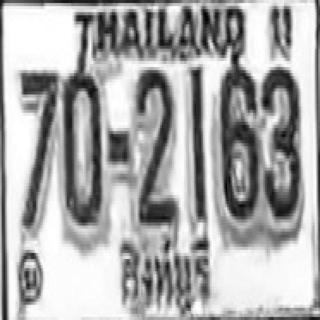N00: (61, 67, 102, 226)
N01: (190, 66, 205, 224)
N02: (136, 67, 176, 222)
N03: (261, 64, 300, 220)
N06: (218, 64, 258, 220)
N07: (18, 67, 58, 232)
P62: (111, 231, 216, 319)
